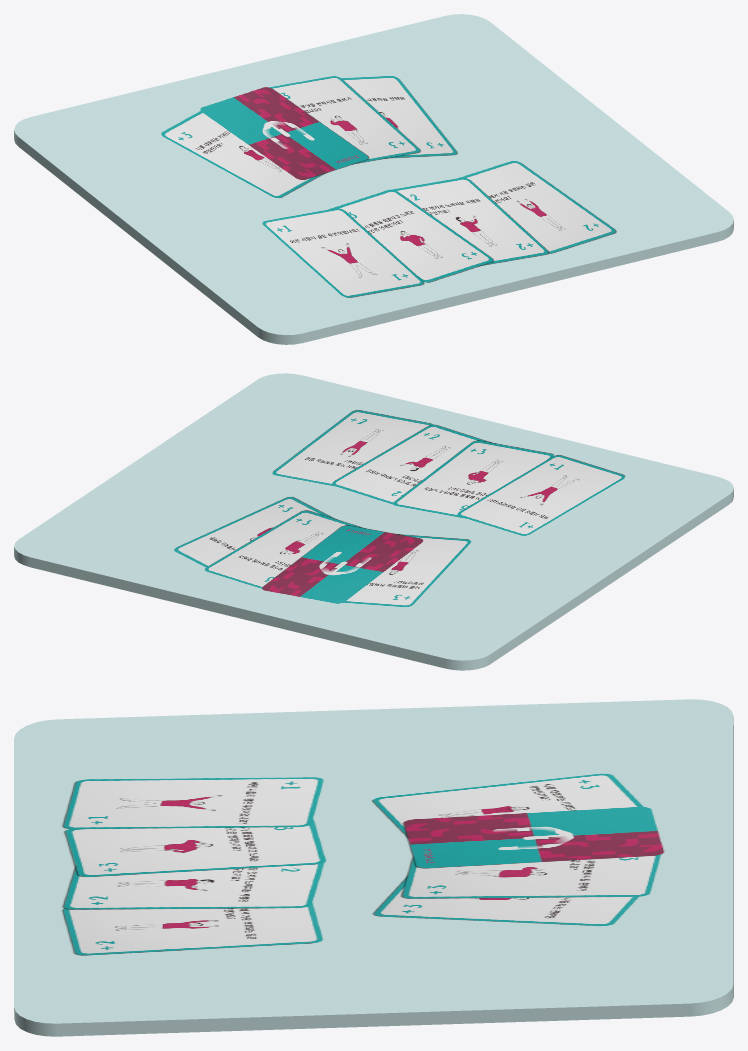
File: mmm.dae
3 views of the same model, one above another, from view 1: azimuth 30°, elevation 25°; view 2: azimuth 150°, elevation 25°; view 3: azimuth 270°, elevation 25° (orthographic). The views are drawn at different scales.
Parts seen in each view (by area): view 1: a; view 2: a; view 3: a.
Boxes of the visible parts, left/top/right/bottom form: a: left=14, top=14, right=733, bottom=344; a: left=14, top=373, right=733, bottom=670; a: left=14, top=699, right=733, bottom=1036.
Size of the model in its own units: 5.35 by 5.35 by 0.2934.
1 material, 1 textured.
